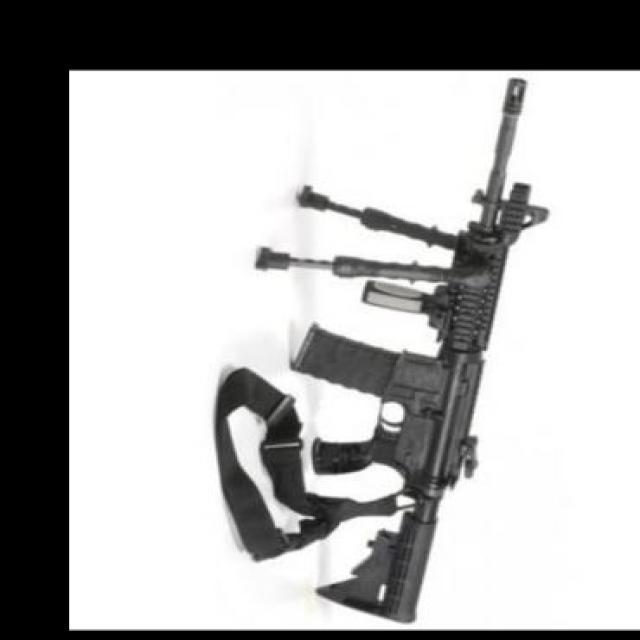weapon: (252, 77, 550, 624)
